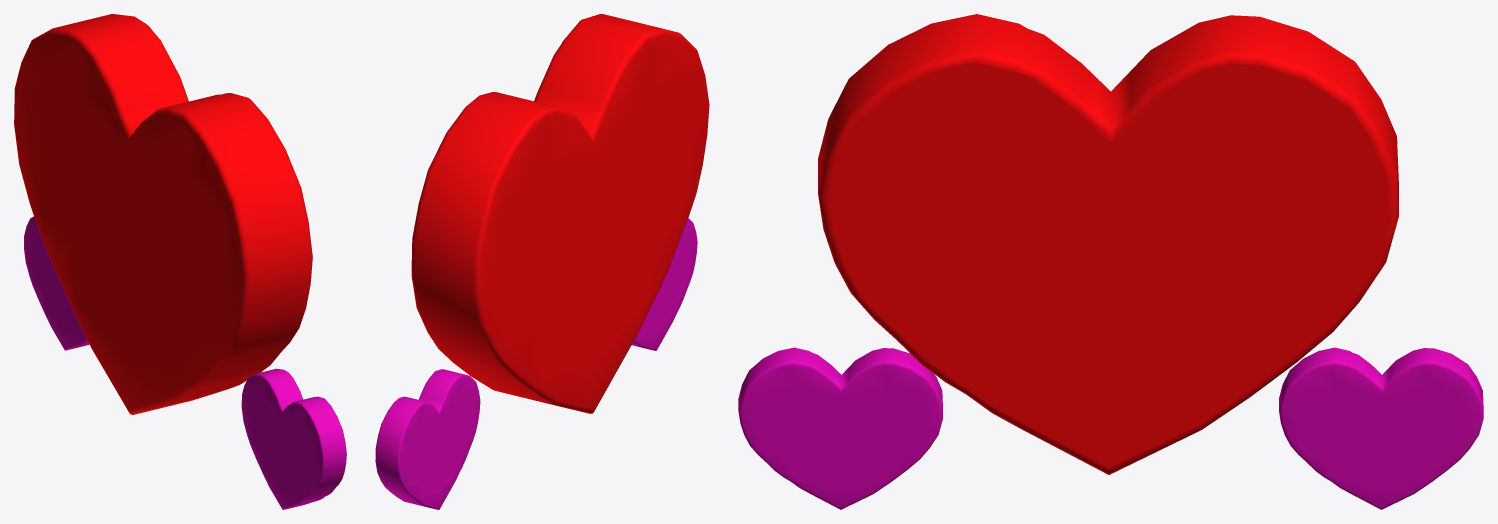
Rendered from hate.glb.
The picture shows the model from 3 angles, left to right: view 1: azimuth 30°, elevation 25°; view 2: azimuth 150°, elevation 25°; view 3: azimuth 270°, elevation 25°; orthographic projection. The views are drawn at different scales.
Parts seen in each view (by area): view 1: 平面, 平面.002, 平面.001; view 2: 平面, 平面.001, 平面.002; view 3: 平面, 平面.001, 平面.002.
Part boxes in pixels (<box>): 平面: <box>14,14,312,414</box>; 平面.002: <box>241,368,346,509</box>; 平面.001: <box>24,216,89,350</box>; 平面: <box>411,14,709,413</box>; 平面.001: <box>375,369,480,509</box>; 平面.002: <box>632,218,697,350</box>; 平面: <box>818,14,1398,474</box>; 平面.001: <box>1279,347,1483,509</box>; 平面.002: <box>738,347,942,509</box>.
Bounding box in the file's own units: 1.39 × 7 × 10.34.
